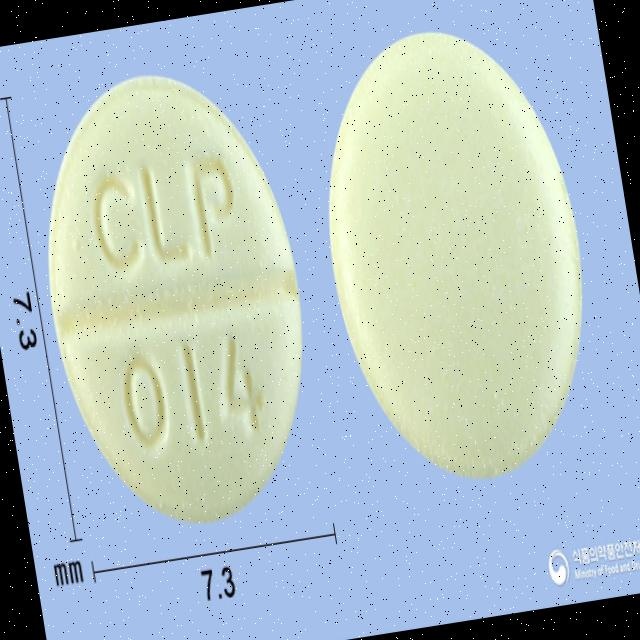Immuthera: (17, 49, 334, 539)
